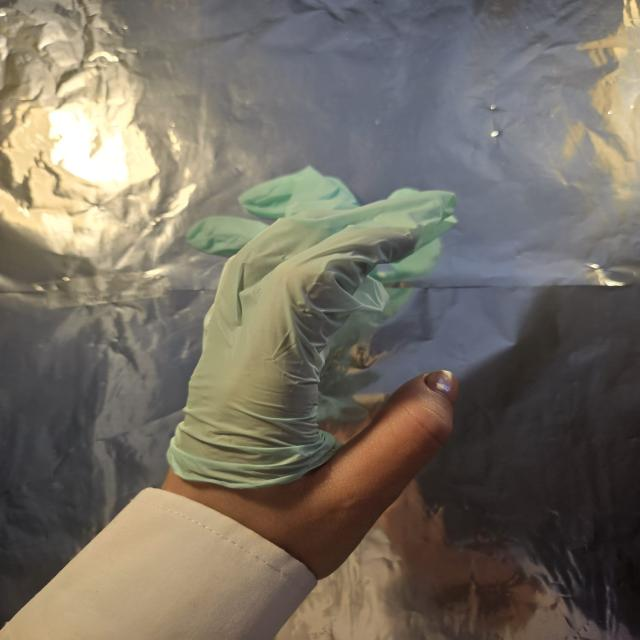glove_partial: (159, 165, 462, 542)
